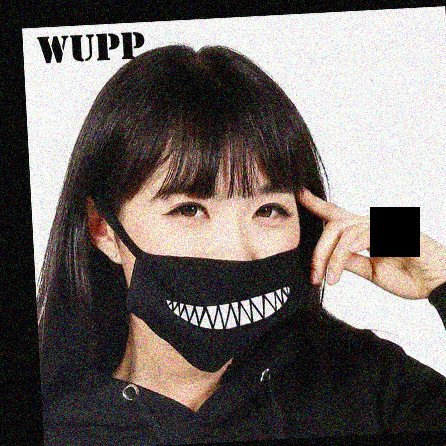with_mask: (120, 179, 307, 369)
